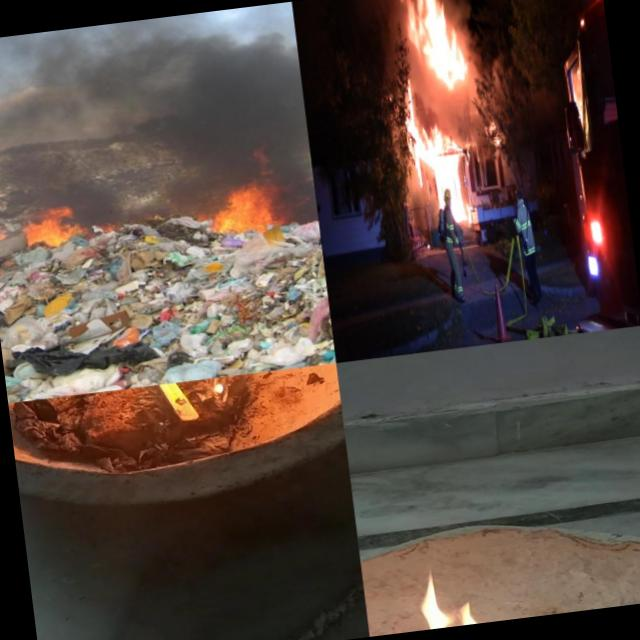fire: (362, 559, 542, 636), (397, 0, 470, 85), (205, 176, 284, 246), (19, 196, 87, 256), (410, 126, 467, 188)
smoke: (0, 1, 312, 206), (82, 182, 211, 238), (410, 80, 480, 130), (276, 168, 320, 234)
